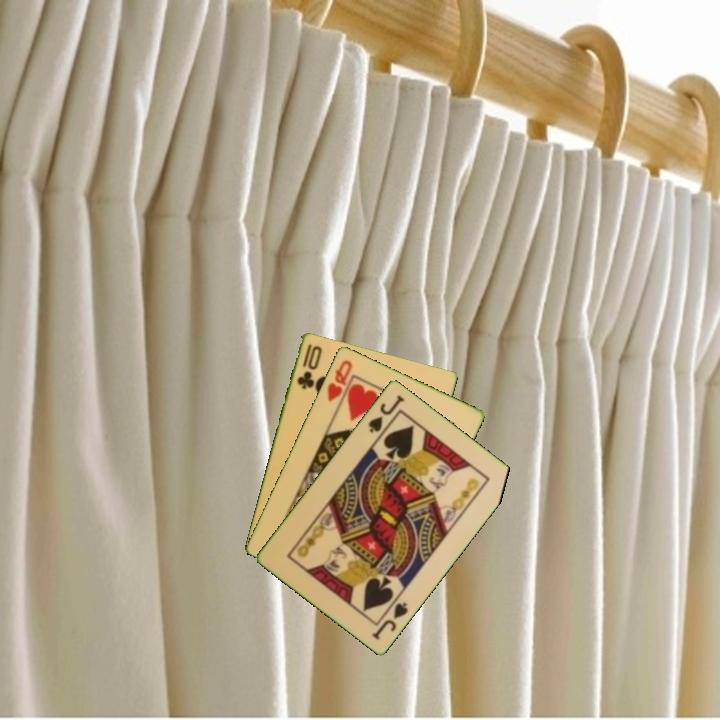10c: (293, 340, 325, 392)
Js: (368, 598, 411, 642), (365, 391, 407, 436)
Qh: (323, 356, 355, 405)
